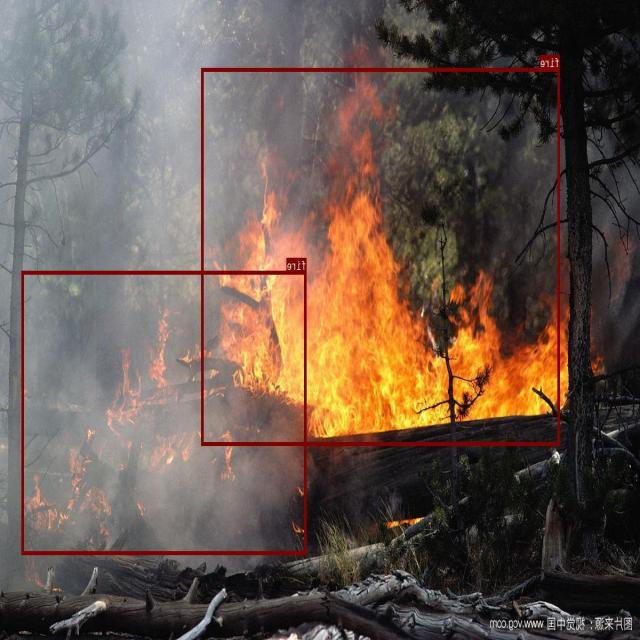fire: (202, 68, 560, 445), (22, 270, 307, 554)
